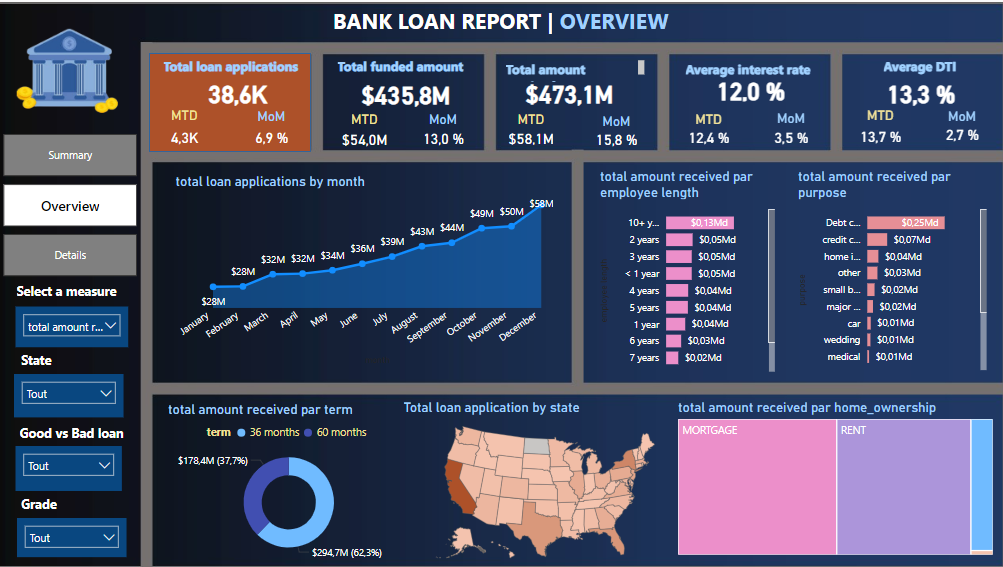

The dashboard page shown, as its layout file describes it:
{"tool":"powerbi","page":{"name":"Overview","canvas":[1280,720],"ordinal":1},"visuals":[{"type":"shape","box":[196.5,64.3,204.1,124.7],"z":0,"group":"g5"},{"type":"group","id":"g1","title":"Group 1","box":[429,64.3,185.2,126.6],"z":0},{"type":"group","id":"g2","title":"Group 2","box":[627.4,67.6,206,121.4],"z":1000},{"type":"card","title":"MTD","fields":{"Values":["financial_loan.mtd loan applications"]},"box":[196.5,132.3,88.8,58.6],"z":1000,"group":"g5"},{"type":"group","id":"g3","title":"Group 3","box":[858,67.6,194.6,119.3],"z":2000},{"type":"card","title":"Total loan applications","fields":{"Values":["financial_loan.total loan applications"]},"box":[224.8,79.4,166.3,69.9],"z":2000,"group":"g5"},{"type":"group","id":"g4","title":"Group 4","box":[1065.8,64.3,213.5,124.7],"z":3000},{"type":"card","fields":{"Values":["financial_loan.Total funded amount"]},"box":[449.8,88.9,139.8,52.9],"z":3000,"group":"g1"},{"type":"card","title":"MoM","fields":{"Values":["financial_loan.MoM loan applications"]},"box":[302.3,134.2,96.4,54.8],"z":3000,"group":"g5"},{"type":"group","id":"g5","title":"Group 5","box":[196.5,64.3,204.1,126.6],"z":4000},{"type":"textbox","box":[209.7,64.3,189,41.6],"z":4000,"group":"g5"},{"type":"card","title":"MTD","fields":{"Values":["financial_loan.MTD funded amounts"]},"box":[429,138,77.5,52.9],"z":4000,"group":"g1"},{"type":"textbox","box":[423.3,0,510.2,49.1],"z":5000},{"type":"card","title":"MoM","fields":{"Values":["financial_loan.MoM funded applications"]},"box":[519.7,138,94.5,49.1],"z":5000,"group":"g1"},{"type":"card","title":"MTD","fields":{"Values":["financial_loan.MTD amount received"]},"box":[627.4,138,100.2,43.5],"z":6000,"group":"g2"},{"type":"slicer","fields":{"Values":["financial_loan.address_state"]},"box":[26.5,468.7,138,54.8],"z":6000},{"type":"card","fields":{"Values":["financial_loan.total amount received"]},"box":[650.1,85.1,151.2,58.6],"z":7000,"group":"g2"},{"type":"slicer","fields":{"Values":["financial_loan.grade"]},"box":[30.2,650.1,138,49.1],"z":7000},{"type":"card","title":"MoM","fields":{"Values":["financial_loan.MoM amount received"]},"box":[737,139.9,96.4,49.1],"z":8000,"group":"g2"},{"type":"slicer","fields":{"Values":["financial_loan.Good vs Bad loans"]},"box":[28.3,559.4,134.2,56.7],"z":8000},{"type":"card","fields":{"Values":["financial_loan.average int_rate"]},"box":[878.8,90.8,151.2,39.7],"z":9000,"group":"g3"},{"type":"textbox","box":[30.2,434.6,73.7,35.9],"z":9000},{"type":"card","title":"MTD","fields":{"Values":["financial_loan.MTD average rate"]},"box":[858,138,86.9,47.2],"z":10000,"group":"g3"},{"type":"textbox","box":[28.3,527.2,170.1,32.1],"z":10000},{"type":"card","title":"MoM","fields":{"Values":["financial_loan.MoM average rate"]},"box":[958.2,135.9,94.5,51],"z":11000,"group":"g3"},{"type":"textbox","box":[30.2,616.1,73.7,37.8],"z":11000},{"type":"card","fields":{"Values":["financial_loan.average dti"]},"box":[1094.1,90.8,149.3,47.2],"z":12000,"group":"g4"},{"type":"areaChart","title":"total loan applications by month","fields":{"Y":["financial_loan.total amount received"],"Category":["date table.month"]},"box":[224.9,215.4,485.7,245.7],"z":12000},{"type":"card","title":"MTD","fields":{"Values":["financial_loan.MTD dti"]},"box":[1065.8,132.3,103.9,56.7],"z":13000,"group":"g4"},{"type":"slicer","fields":{"Values":["Select measure.Select measure"]},"box":[28.3,383.6,141.7,51],"z":13000},{"type":"card","title":"MoM","fields":{"Values":["financial_loan.MoM average dti"]},"box":[1162.2,134.2,117.2,47.2],"z":14000,"group":"g4"},{"type":"textbox","box":[24.6,347.7,149.3,35.9],"z":14000},{"type":"textbox","box":[429,64.3,185.2,41.6],"z":14002,"group":"g1"},{"type":"textbox","box":[639.9,67.6,185.2,37.8],"z":14003,"group":"g2"},{"type":"textbox","box":[867.5,67.6,181.4,37.8],"z":14004,"group":"g3"},{"type":"textbox","box":[1116.8,64.3,126.6,41.6],"z":14005,"group":"g4"},{"type":"shapeMap","title":"Total loan application by state","fields":{"Category":["financial_loan.address_state"]},"box":[512.1,500.8,366.6,213.5],"z":15000},{"type":"donutChart","fields":{"Y":["financial_loan.total amount received"],"Category":["financial_loan.term"]},"box":[215.4,502.7,313.7,206],"z":16000},{"type":"barChart","fields":{"Y":["financial_loan.total amount received"],"Category":["financial_loan.emp_length"]},"box":[759.7,209.8,230.6,260.8],"z":17000},{"type":"barChart","fields":{"Y":["financial_loan.total amount received"],"Category":["financial_loan.purpose"]},"box":[1009.1,209.8,247.6,258.9],"z":18000},{"type":"treemap","fields":{"Values":["financial_loan.total amount received"],"Group":["financial_loan.home_ownership"]},"box":[858,500.8,406.3,200.3],"z":19000},{"type":"pageNavigator","box":[13.2,166.3,168.2,181.4],"z":20000},{"type":"image","box":[24.6,26.5,138,120.9],"z":20001}]}

Visuals, with their boxes in screenshot pixels (x1, y1, x2, y2), scaled from the page's 1280x720 canvas onto the 1003x567 screenshot:
shape: pyautogui.locateOnScreen(154, 51, 314, 149)
"Group 1" group: pyautogui.locateOnScreen(336, 51, 481, 150)
"Group 2" group: pyautogui.locateOnScreen(492, 53, 653, 149)
"MTD" card: pyautogui.locateOnScreen(154, 104, 224, 150)
"Group 3" group: pyautogui.locateOnScreen(672, 53, 825, 147)
"Total loan applications" card: pyautogui.locateOnScreen(176, 63, 306, 118)
"Group 4" group: pyautogui.locateOnScreen(835, 51, 1002, 149)
card - financial_loan.Total funded amount: pyautogui.locateOnScreen(352, 70, 462, 112)
"MoM" card: pyautogui.locateOnScreen(237, 106, 312, 149)
"Group 5" group: pyautogui.locateOnScreen(154, 51, 314, 150)
textbox: pyautogui.locateOnScreen(164, 51, 312, 83)
"MTD" card: pyautogui.locateOnScreen(336, 109, 397, 150)
textbox: pyautogui.locateOnScreen(332, 0, 731, 39)
"MoM" card: pyautogui.locateOnScreen(407, 109, 481, 147)
"MTD" card: pyautogui.locateOnScreen(492, 109, 570, 143)
slicer - financial_loan.address_state: pyautogui.locateOnScreen(21, 369, 129, 412)
card - financial_loan.total amount received: pyautogui.locateOnScreen(509, 67, 628, 113)
slicer - financial_loan.grade: pyautogui.locateOnScreen(24, 512, 132, 551)
"MoM" card: pyautogui.locateOnScreen(578, 110, 653, 149)
slicer - financial_loan.Good vs Bad loans: pyautogui.locateOnScreen(22, 441, 127, 485)
card - financial_loan.average int_rate: pyautogui.locateOnScreen(689, 72, 807, 103)
textbox: pyautogui.locateOnScreen(24, 342, 81, 371)
"MTD" card: pyautogui.locateOnScreen(672, 109, 740, 146)
textbox: pyautogui.locateOnScreen(22, 415, 155, 440)
"MoM" card: pyautogui.locateOnScreen(751, 107, 825, 147)
textbox: pyautogui.locateOnScreen(24, 485, 81, 515)
card - financial_loan.average dti: pyautogui.locateOnScreen(857, 72, 974, 109)
"total loan applications by month" areaChart: pyautogui.locateOnScreen(176, 170, 557, 363)
"MTD" card: pyautogui.locateOnScreen(835, 104, 917, 149)
slicer - Select measure.Select measure: pyautogui.locateOnScreen(22, 302, 133, 342)
"MoM" card: pyautogui.locateOnScreen(911, 106, 1002, 143)
textbox: pyautogui.locateOnScreen(19, 274, 136, 302)
textbox: pyautogui.locateOnScreen(336, 51, 481, 83)
textbox: pyautogui.locateOnScreen(501, 53, 647, 83)
textbox: pyautogui.locateOnScreen(680, 53, 822, 83)
textbox: pyautogui.locateOnScreen(875, 51, 974, 83)
"Total loan application by state" shapeMap: pyautogui.locateOnScreen(401, 394, 689, 563)
donutChart - financial_loan.total amount received x financial_loan.term: pyautogui.locateOnScreen(169, 396, 415, 558)
barChart - financial_loan.total amount received x financial_loan.emp_length: pyautogui.locateOnScreen(595, 165, 776, 371)
barChart - financial_loan.total amount received x financial_loan.purpose: pyautogui.locateOnScreen(791, 165, 985, 369)
treemap - financial_loan.total amount received x financial_loan.home_ownership: pyautogui.locateOnScreen(672, 394, 991, 552)
pageNavigator: pyautogui.locateOnScreen(10, 131, 142, 274)
image: pyautogui.locateOnScreen(19, 21, 127, 116)
